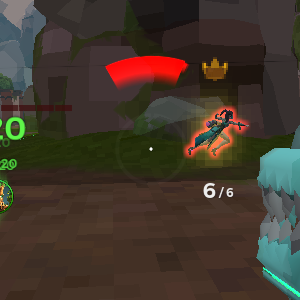model: (185, 102, 250, 159)
